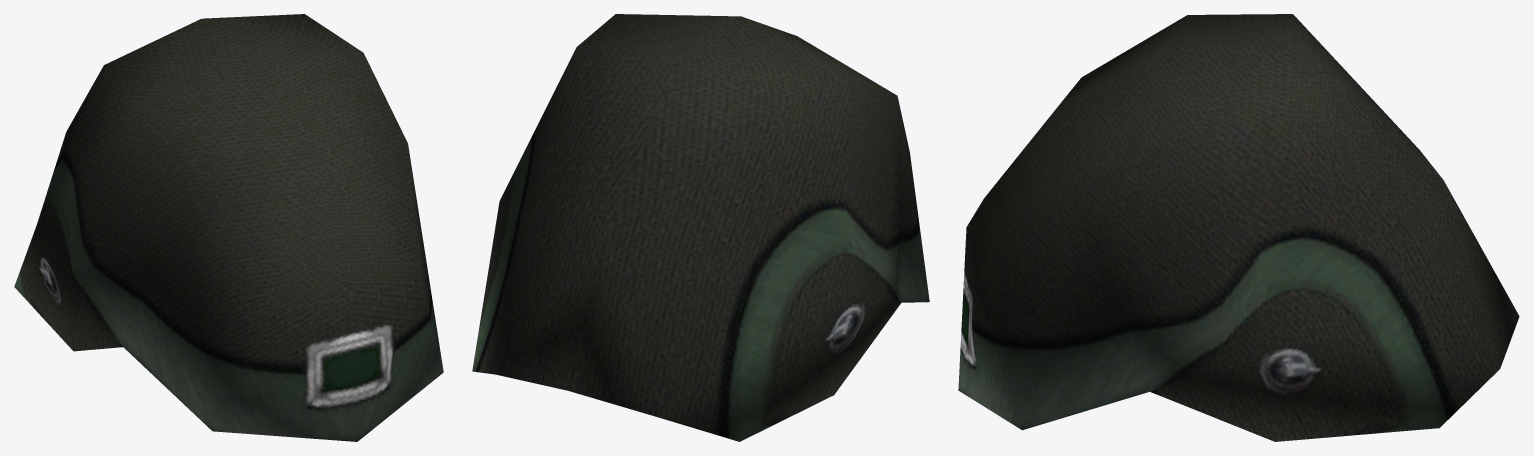
The model's file is Helmet4__MOB.glb.
The picture shows the model from 3 angles, left to right: view 1: azimuth 30°, elevation 25°; view 2: azimuth 150°, elevation 25°; view 3: azimuth 270°, elevation 25°; orthographic projection. The views are drawn at different scales.
Parts seen in each view (by area): view 1: Helmet4; view 2: Helmet4; view 3: Helmet4.
Boxes of the visible parts, x1,y1,x2,y2 form: Helmet4: (14, 14, 443, 441); Helmet4: (472, 14, 929, 441); Helmet4: (958, 14, 1519, 441).
Size of the model in its own units: 12.19 by 10.84 by 16.01.
Materials: 1 (1 with a texture image).
